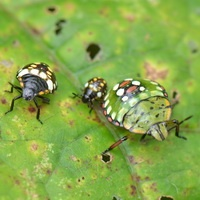insect: (82, 77, 190, 140), (5, 63, 56, 123)
